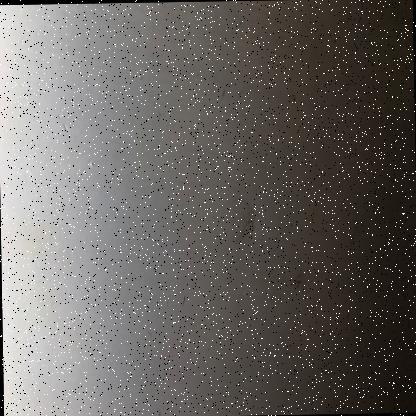Nocrack: (13, 12, 406, 396)
